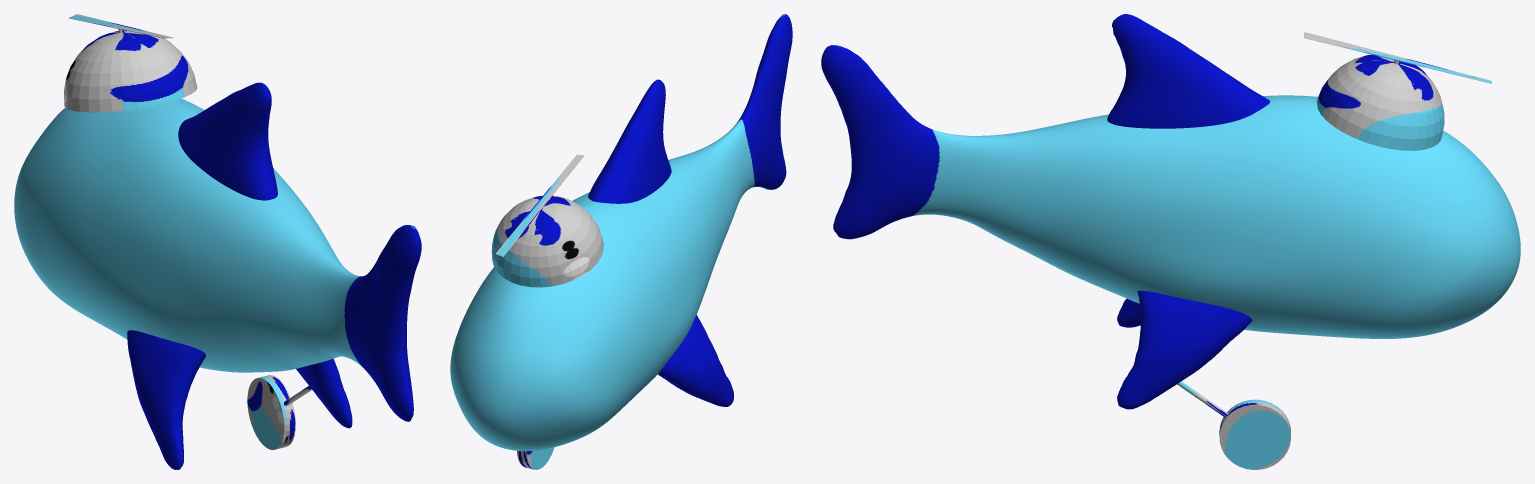
The model's file is eyeless_WFJ_propellerhat.fbx.
3 views of the same model, side by side, from view 1: azimuth 30°, elevation 25°; view 2: azimuth 150°, elevation 25°; view 3: azimuth 270°, elevation 25° (orthographic). The views are drawn at different scales.
Parts seen in each view (by area): view 1: Cylinder.001; view 2: Cylinder.001; view 3: Cylinder.001.
Boxes of the visible parts, x1,y1,x2,y2 form: Cylinder.001: [14, 14, 421, 469]; Cylinder.001: [450, 14, 792, 469]; Cylinder.001: [821, 14, 1520, 469].
Bounding box in the file's own units: 134 × 304 × 462.
